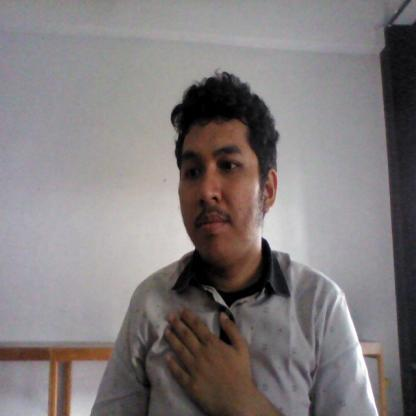Saya: (150, 304, 258, 414)
